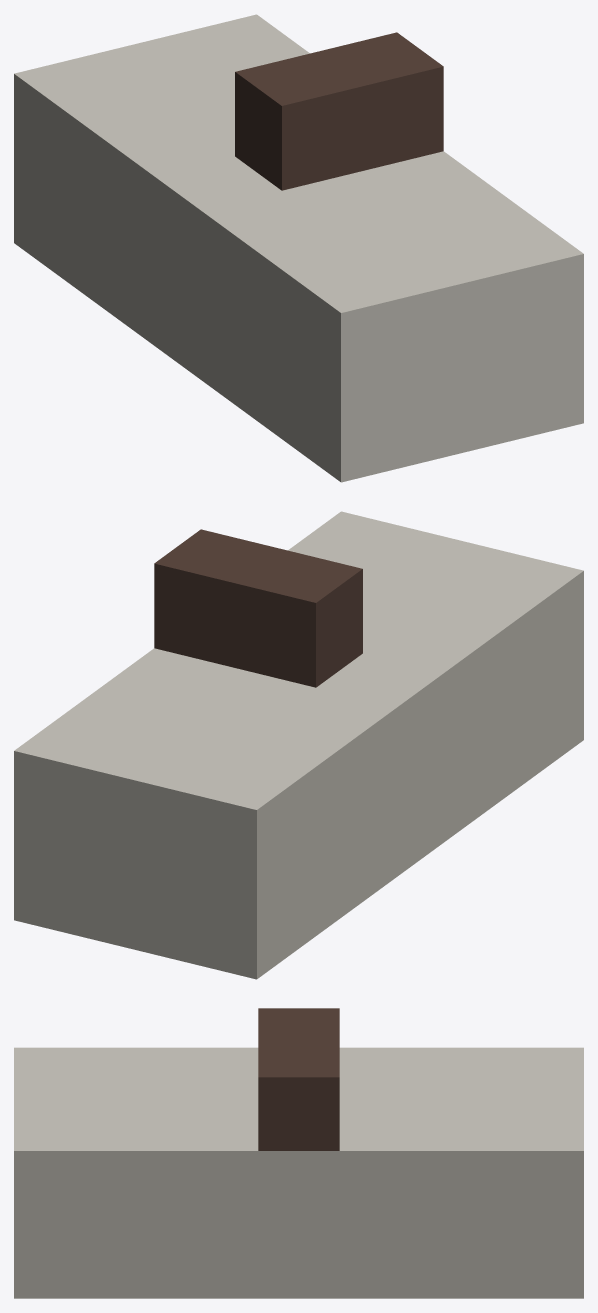
File: cloth_legendary_boot_foot_L_lod1.glb
The picture shows the model from 3 angles, top to bottom: view 1: azimuth 30°, elevation 25°; view 2: azimuth 150°, elevation 25°; view 3: azimuth 270°, elevation 25°; orthographic projection. The views are drawn at different scales.
Parts seen in each view (by area): view 1: cloth_legendary_boot_foot_L_lod1; view 2: cloth_legendary_boot_foot_L_lod1; view 3: cloth_legendary_boot_foot_L_lod1.
Boxes of the visible parts, x1,y1,x2,y2 form: cloth_legendary_boot_foot_L_lod1: (14, 14, 583, 482); cloth_legendary_boot_foot_L_lod1: (14, 511, 583, 979); cloth_legendary_boot_foot_L_lod1: (14, 1008, 583, 1298).
Size of the model in its own units: 0.144 by 0.144 by 0.336.
